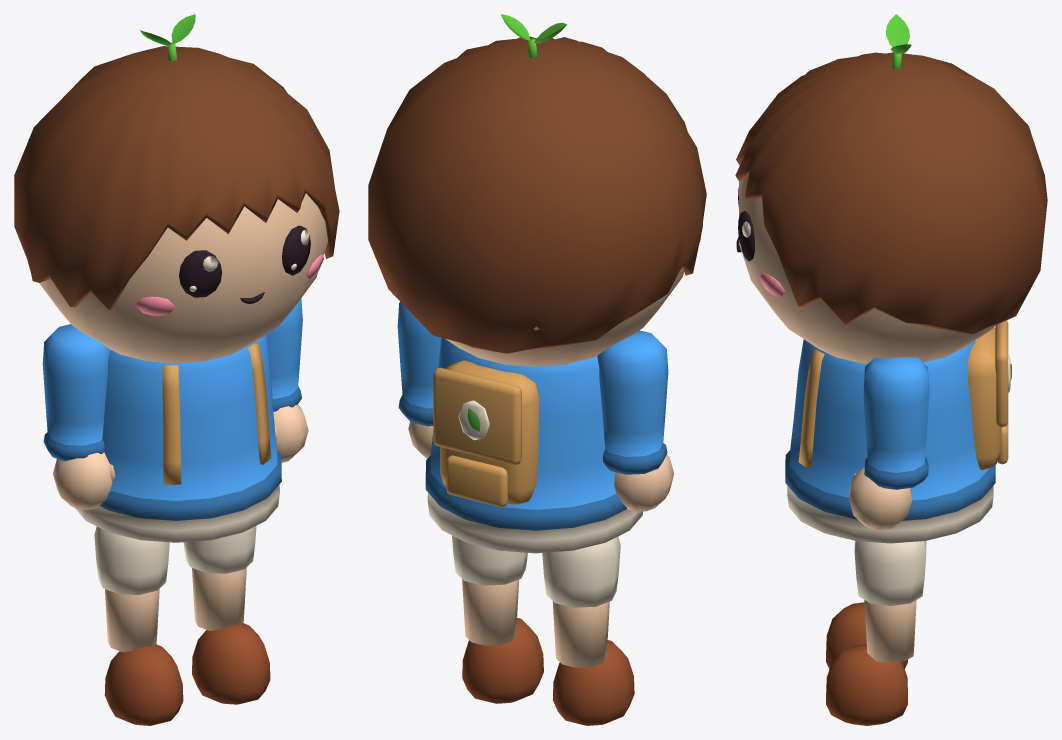
File: hero-teen.glb
The picture shows the model from 3 angles, left to right: view 1: azimuth 30°, elevation 25°; view 2: azimuth 150°, elevation 25°; view 3: azimuth 270°, elevation 25°; orthographic projection. The views are drawn at different scales.
Parts seen in each view (by area): view 1: head, body, leg-left, leg-right, arm-left, arm-right, head-leaf; view 2: head, body, leg-left, arm-left, leg-right, arm-right, head-leaf; view 3: head, body, leg-right, arm-right, leg-left, head-leaf.
Boxes of the visible parts, x1,y1,x2,y2 form: head: (14, 46, 339, 363); body: (75, 334, 281, 542); leg-left: (94, 526, 183, 725); leg-right: (183, 525, 270, 704); arm-left: (42, 324, 115, 509); arm-right: (266, 298, 308, 462); head-leaf: (140, 14, 195, 61); head: (368, 36, 706, 366); body: (425, 338, 643, 553); leg-left: (542, 536, 634, 725); arm-left: (597, 330, 674, 511); leg-right: (452, 535, 543, 703); arm-right: (397, 301, 441, 458); head-leaf: (501, 14, 567, 58); head: (735, 52, 1047, 363); body: (785, 320, 1011, 543); leg-right: (826, 541, 926, 725); arm-right: (849, 357, 929, 530); leg-left: (826, 602, 907, 668); head-leaf: (886, 14, 911, 69).
Bounding box in the file's own units: 1.11 × 2.51 × 1.07.
